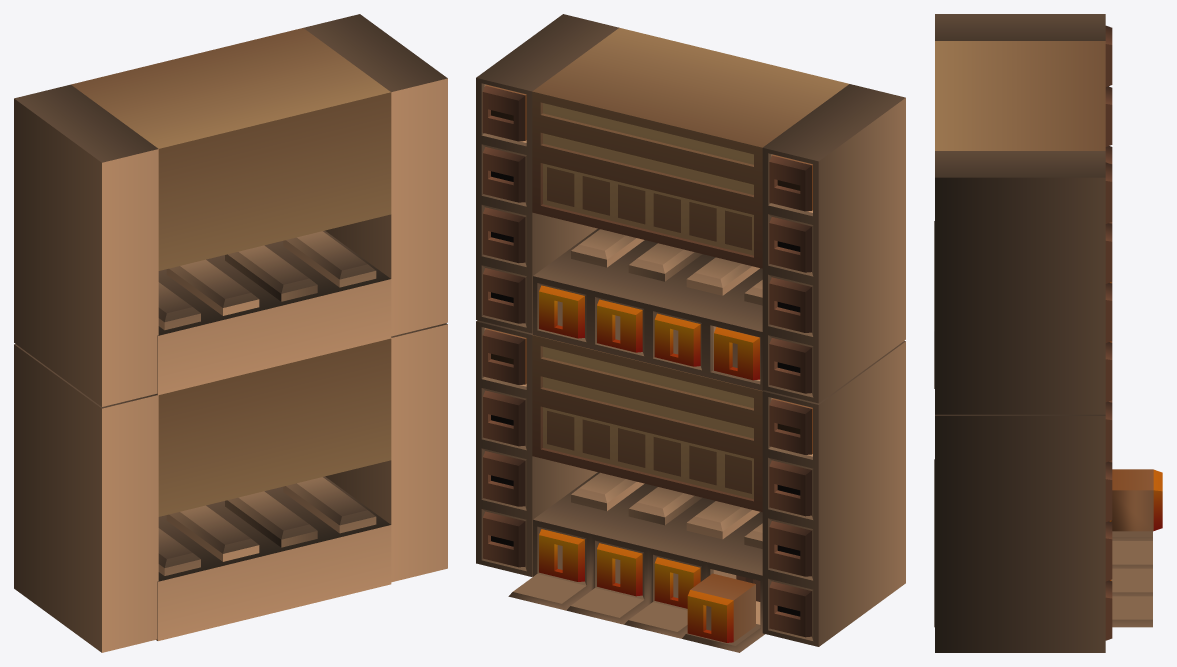
The model's file is colibratorminigame.fbx.
3 views of the same model, side by side, from view 1: azimuth 30°, elevation 25°; view 2: azimuth 150°, elevation 25°; view 3: azimuth 270°, elevation 25° (orthographic). The views are drawn at different scales.
Parts seen in each view (by area): view 1: Cube.003; view 2: Cube.003, Cube.008; view 3: Cube.003, Cube.008.
Boxes of the visible parts, x1=… form: Cube.003: x1=14, y1=14, x2=447, y2=652; Cube.003: x1=476, y1=14, x2=905, y2=652; Cube.008: x1=687, y1=573, x2=755, y2=642; Cube.003: x1=934, y1=14, x2=1152, y2=652; Cube.008: x1=1111, y1=469, x2=1162, y2=531.
Size of the model in its own units: 6.09 by 8.28 by 3.59.
